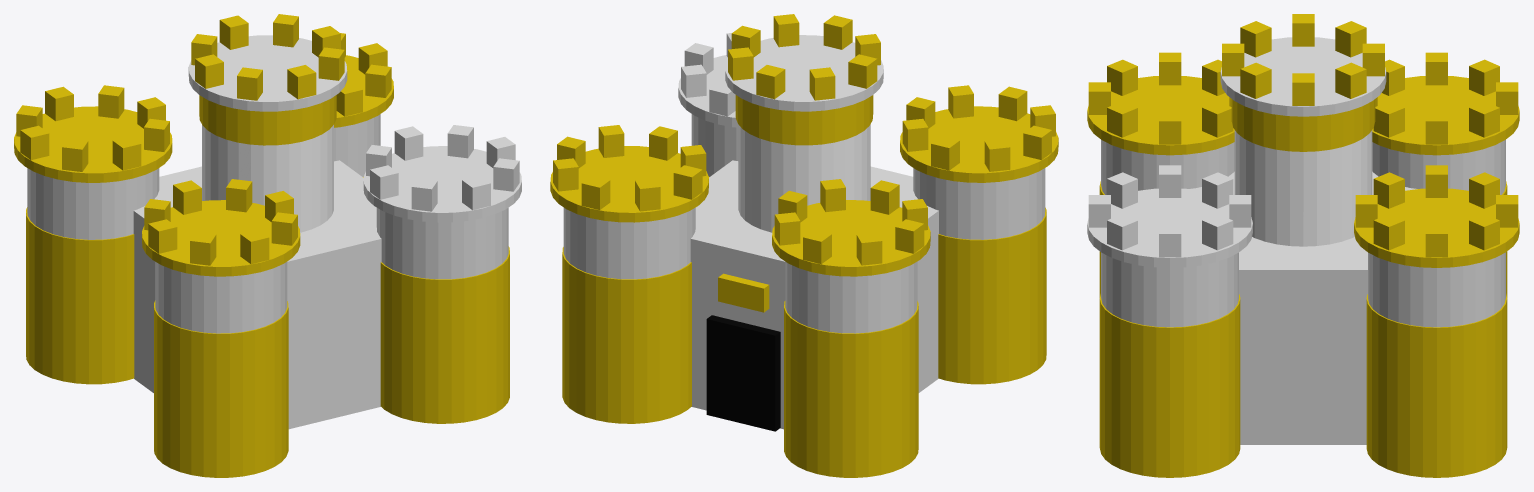
Rendered from olympus.fbx.
3 renders of one model, left to right at view 1: azimuth 30°, elevation 25°; view 2: azimuth 150°, elevation 25°; view 3: azimuth 270°, elevation 25°, orthographic. The views are drawn at different scales.
Visible parts, largest first — view 1: Cube, Cylinder.012, Cylinder.013, Cylinder.015, Cylinder.009, Cylinder.008, Cylinder.006, Cylinder.004, Cylinder.001, Cylinder.010, Cylinder.011, Cylinder.003 (+11 smaller); view 2: Cylinder.015, Cylinder.002, Cylinder.012, Cube, Cylinder.006, Cylinder.008, Cylinder.007, Cylinder.004, Cube.012, Cylinder.011, Cylinder.005, Cylinder.001 (+13 smaller); view 3: Cube, Cylinder.002, Cylinder.013, Cylinder.007, Cylinder.009, Cylinder.004, Cylinder.008, Cylinder.006, Cylinder.005, Cylinder.010, Cylinder.003, Cylinder.014 (+10 smaller).
Part boxes in pixels (x1=…): Cube: x1=133, y1=160, x2=381, y2=429; Cylinder.012: x1=154, y1=300, x2=288, y2=477; Cylinder.013: x1=380, y1=246, x2=509, y2=423; Cylinder.015: x1=26, y1=207, x2=134, y2=384; Cylinder.009: x1=363, y1=125, x2=521, y2=222; Cylinder.008: x1=142, y1=179, x2=300, y2=276; Cylinder.006: x1=14, y1=85, x2=172, y2=182; Cylinder.004: x1=202, y1=125, x2=333, y2=232; Cylinder.001: x1=155, y1=262, x2=287, y2=333; Cylinder.010: x1=376, y1=208, x2=508, y2=279; Cylinder.011: x1=27, y1=168, x2=159, y2=239; Cylinder.003: x1=188, y1=35, x2=347, y2=111; Cylinder.015: x1=784, y1=301, x2=918, y2=477; Cylinder.002: x1=562, y1=247, x2=691, y2=423; Cylinder.012: x1=938, y1=207, x2=1046, y2=384; Cube: x1=690, y1=160, x2=938, y2=429; Cylinder.006: x1=772, y1=179, x2=930, y2=276; Cylinder.008: x1=900, y1=85, x2=1058, y2=182; Cylinder.007: x1=550, y1=125, x2=708, y2=222; Cylinder.004: x1=738, y1=124, x2=870, y2=232; Cube.012: x1=706, y1=315, x2=780, y2=431; Cylinder.011: x1=785, y1=261, x2=917, y2=333; Cylinder.005: x1=563, y1=207, x2=695, y2=279; Cylinder.001: x1=913, y1=168, x2=1045, y2=239; Cube: x1=1189, y1=171, x2=1417, y2=444; Cylinder.002: x1=1366, y1=294, x2=1507, y2=477; Cylinder.013: x1=1099, y1=294, x2=1240, y2=477; Cylinder.007: x1=1354, y1=165, x2=1519, y2=267; Cylinder.009: x1=1087, y1=165, x2=1252, y2=267; Cylinder.004: x1=1234, y1=130, x2=1372, y2=246; Cylinder.008: x1=1087, y1=52, x2=1234, y2=155; Cylinder.006: x1=1372, y1=52, x2=1519, y2=155; Cylinder.005: x1=1368, y1=252, x2=1505, y2=327; Cylinder.010: x1=1101, y1=252, x2=1238, y2=327; Cylinder.003: x1=1220, y1=37, x2=1386, y2=116; Cylinder.014: x1=1231, y1=99, x2=1375, y2=151.
Size of the model in its own units: 15.67 by 13.76 by 15.67.
